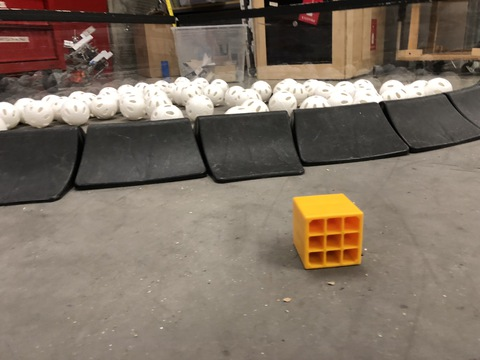block: (279, 186, 368, 282)
